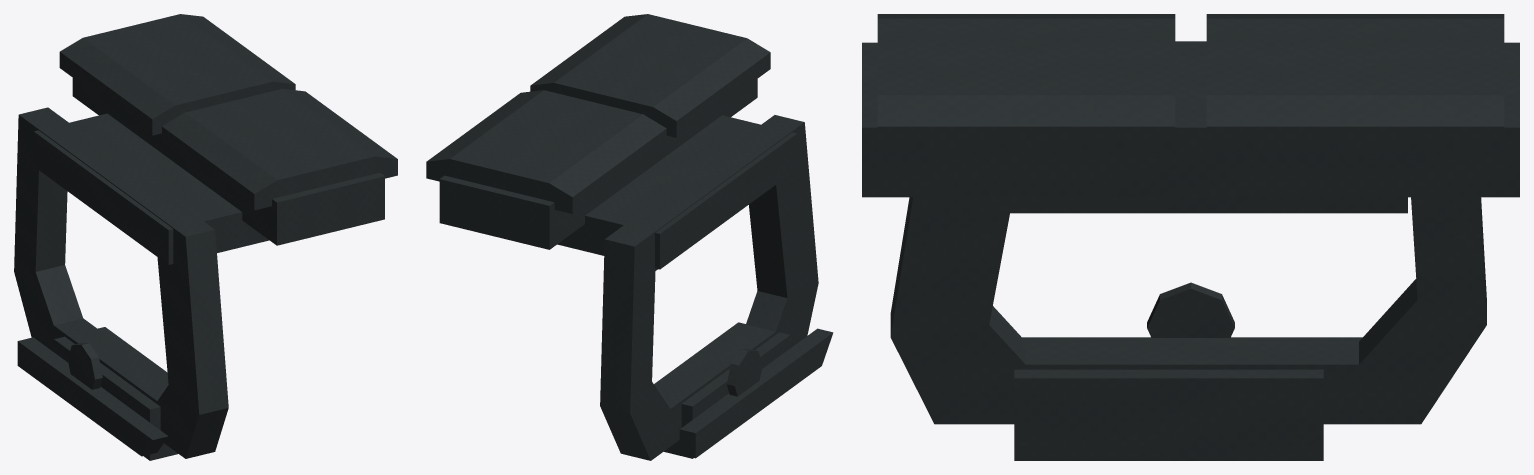
File: val_mount.glb
3 renders of one model, left to right at view 1: azimuth 30°, elevation 25°; view 2: azimuth 150°, elevation 25°; view 3: azimuth 270°, elevation 25°, orthographic. The views are drawn at different scales.
Parts seen in each view (by area): view 1: mount__val_mount_LOD0_RAID_Secondary_Original_steel, mount__val_mount_LOD1_RAID_Secondary_Original_steel; view 2: mount__val_mount_LOD0_RAID_Secondary_Original_steel, mount__val_mount_LOD1_RAID_Secondary_Original_steel; view 3: mount__val_mount_LOD0_RAID_Secondary_Original_steel, mount__val_mount_LOD1_RAID_Secondary_Original_steel.
Part boxes in pixels (<box>): mount__val_mount_LOD0_RAID_Secondary_Original_steel: <box>14,14,397,460</box>; mount__val_mount_LOD1_RAID_Secondary_Original_steel: <box>75,24,382,199</box>; mount__val_mount_LOD0_RAID_Secondary_Original_steel: <box>426,14,833,460</box>; mount__val_mount_LOD1_RAID_Secondary_Original_steel: <box>442,25,754,202</box>; mount__val_mount_LOD0_RAID_Secondary_Original_steel: <box>862,14,1519,460</box>; mount__val_mount_LOD1_RAID_Secondary_Original_steel: <box>924,14,1457,153</box>.
Bounding box in the file's own units: 0.1145 × 0.1415 × 0.18.
1 material, 1 textured.
